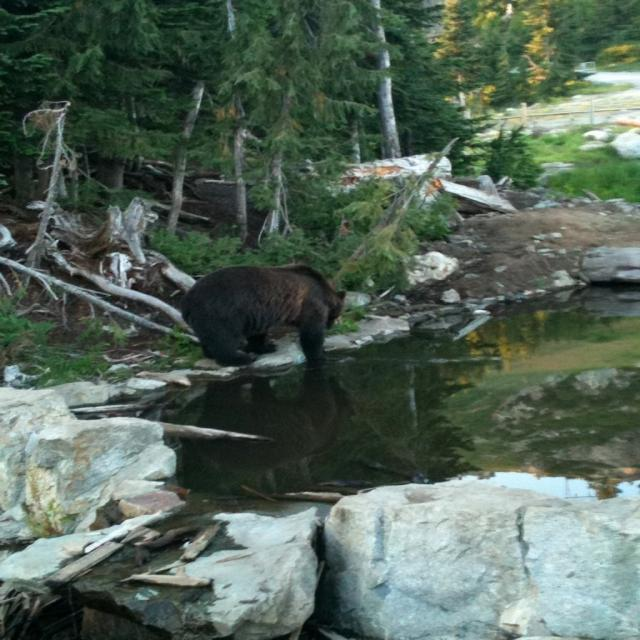Cheetahs: (180, 262, 349, 376)
